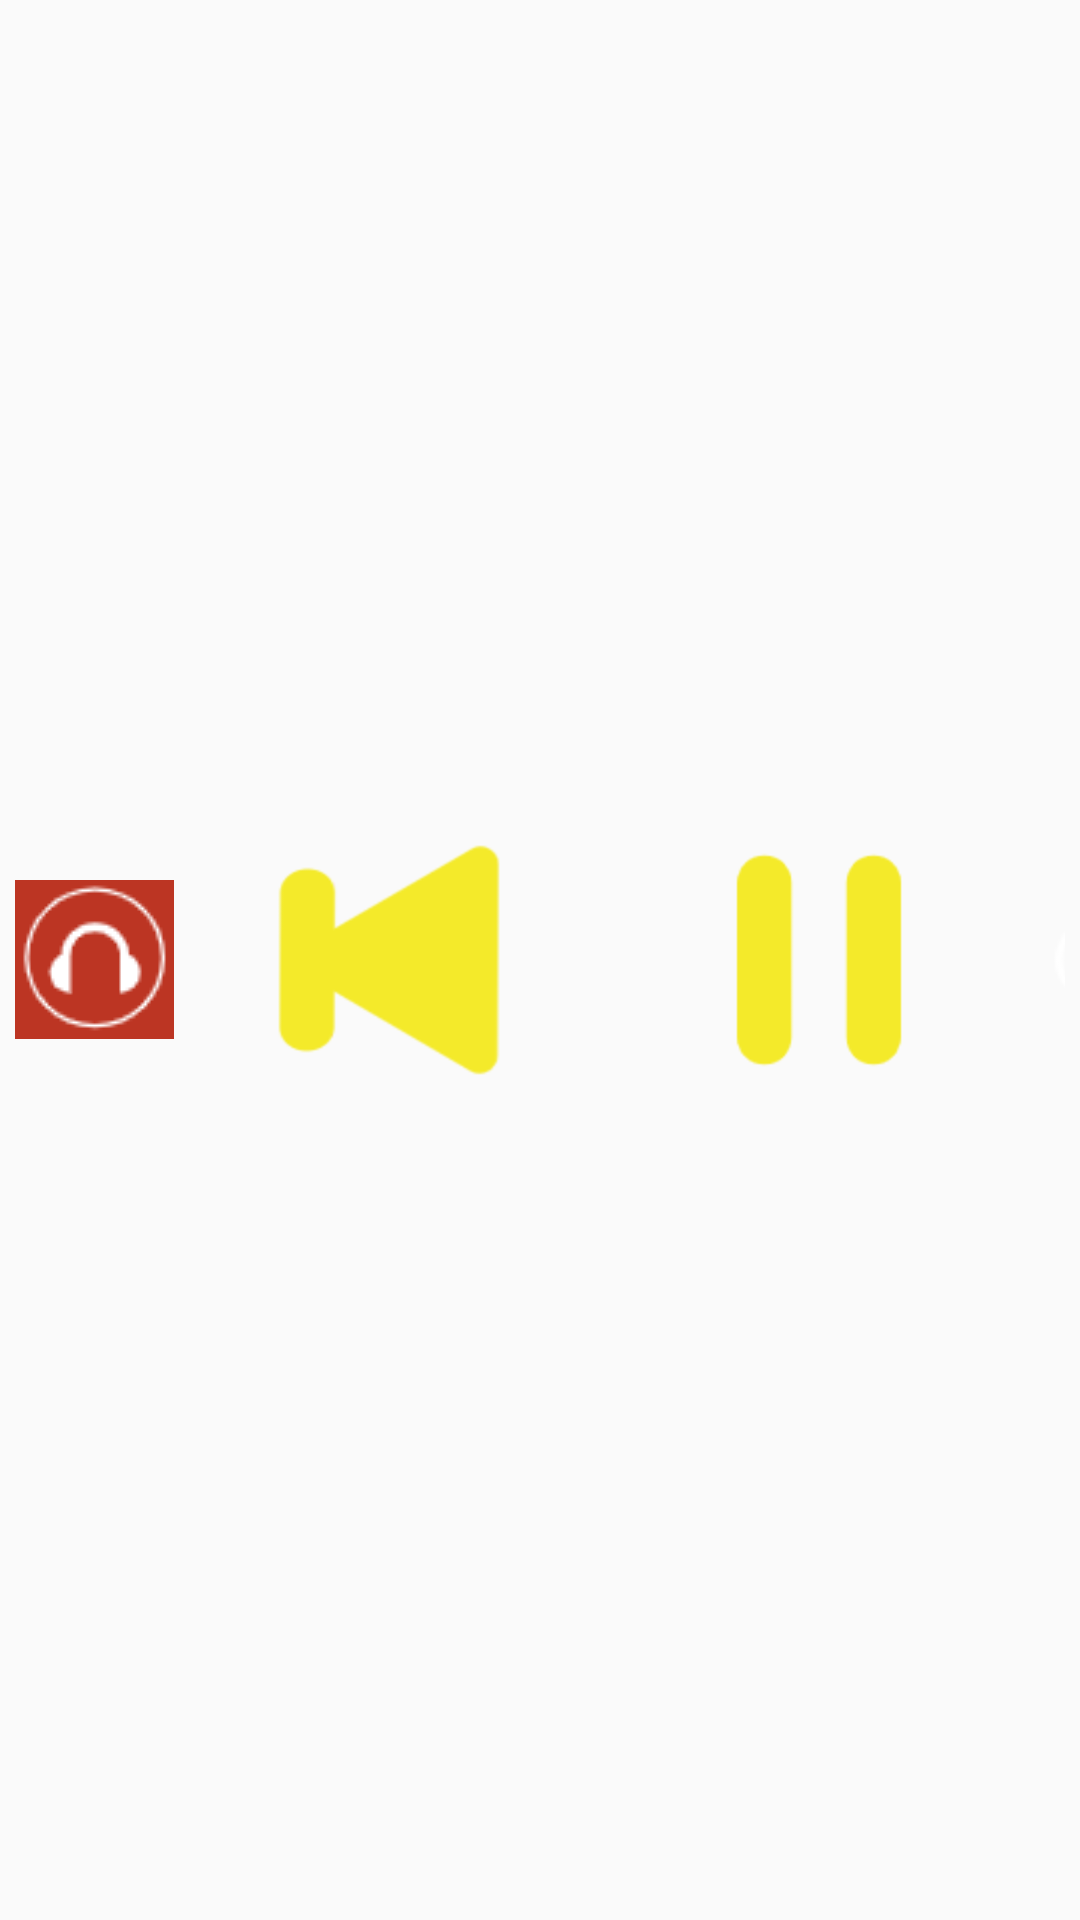

Where icons sit on this 1080w x 1920h app screen, as bbox=(x1, y1, x2, y2):
audio pre: bbox=(278, 845, 500, 1075)
